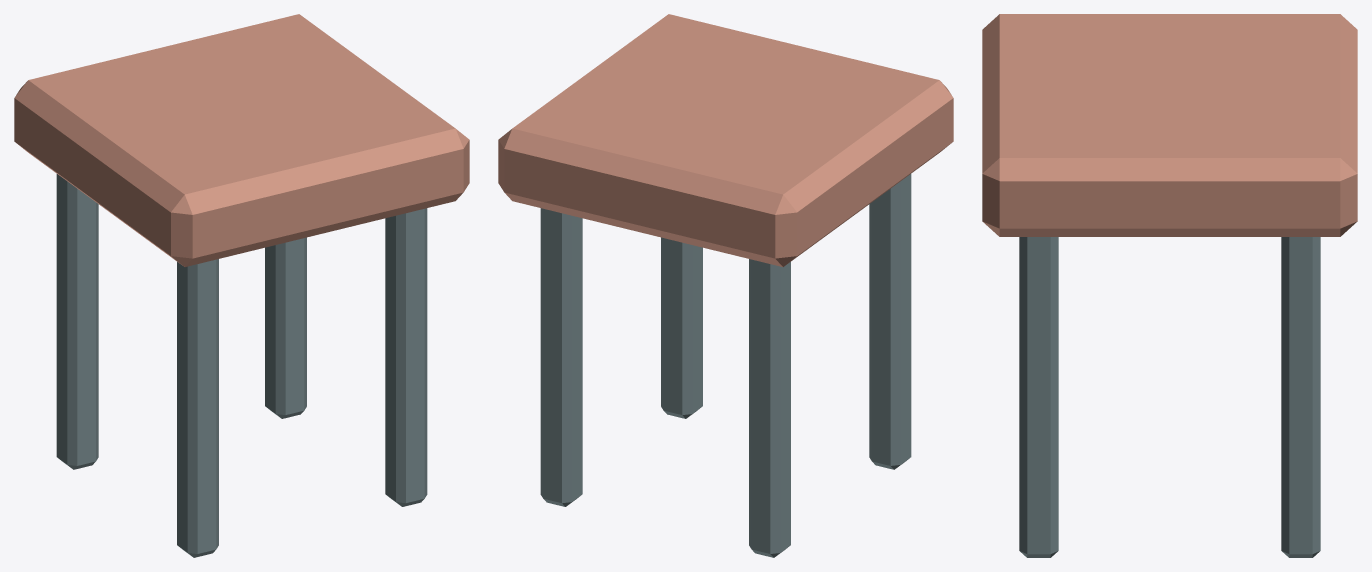
File: stool.glb
3 views of the same model, side by side, from view 1: azimuth 30°, elevation 25°; view 2: azimuth 150°, elevation 25°; view 3: azimuth 270°, elevation 25° (orthographic). The views are drawn at different scales.
Visible parts, largest first — view 1: stool; view 2: stool; view 3: stool.
Boxes of the visible parts, left/top/right/bottom form: stool: left=14, top=14, right=469, bottom=557; stool: left=498, top=14, right=953, bottom=557; stool: left=982, top=14, right=1357, bottom=557.
Bounding box in the file's own units: 0.43 × 0.52 × 0.43.
